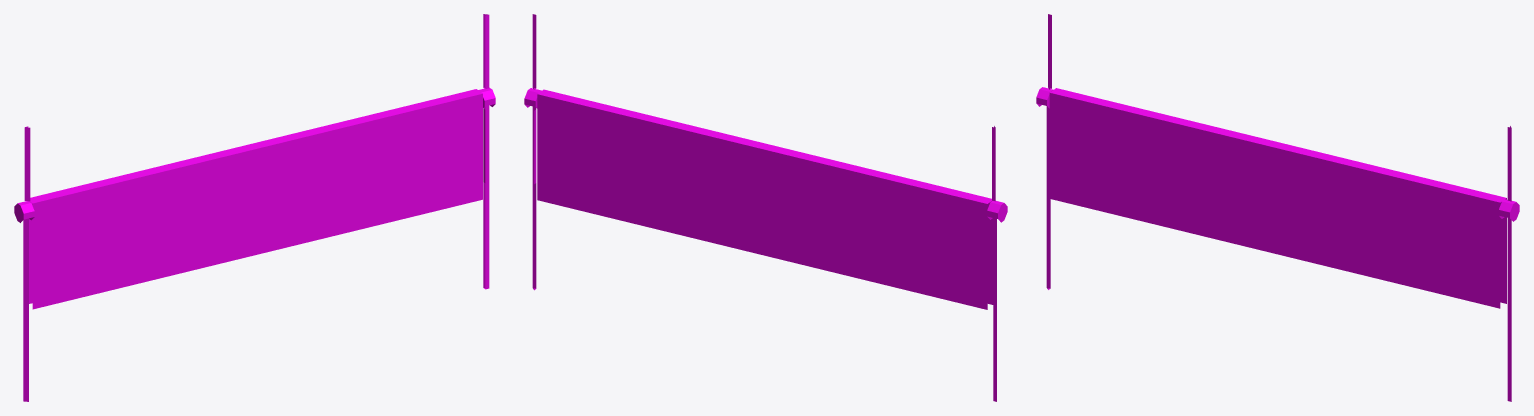
The model's file is cave grillcageup.obj.
3 renders of one model, left to right at view 1: azimuth 30°, elevation 25°; view 2: azimuth 150°, elevation 25°; view 3: azimuth 330°, elevation 25°, orthographic.
Parts seen in each view (by area): view 1: cave grillcageup_back; view 2: cave grillcageup_back; view 3: cave grillcageup_back.
Boxes of the visible parts, x1,y1,x2,y2 form: cave grillcageup_back: (14,14,495,401); cave grillcageup_back: (524,14,1007,401); cave grillcageup_back: (1036,14,1519,401).
Bounding box in the file's own units: 13.44 × 7.44 × 0.51.
